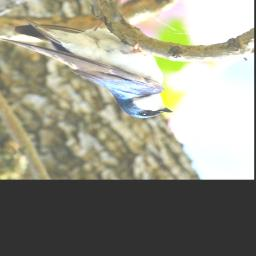Swallow: (0, 13, 173, 119)
